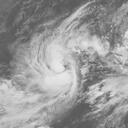cyclone: (26, 28, 83, 95)
